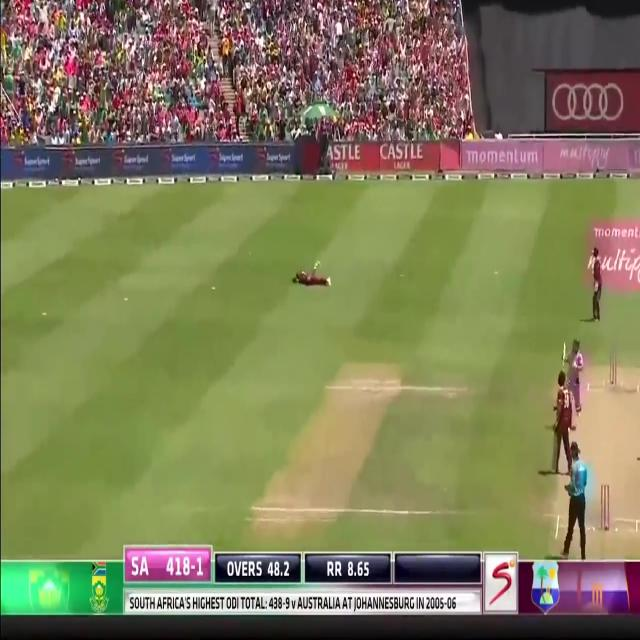Ball: (555, 335, 585, 477)
Fielder: (287, 258, 338, 290), (590, 246, 604, 316)
Umpire: (564, 447, 588, 554)
